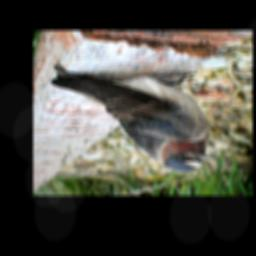Swallow: (47, 62, 216, 174)
